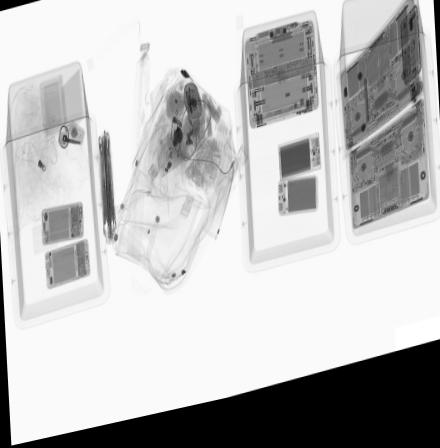Powerbank: (276, 144, 322, 196), (277, 189, 318, 232)
